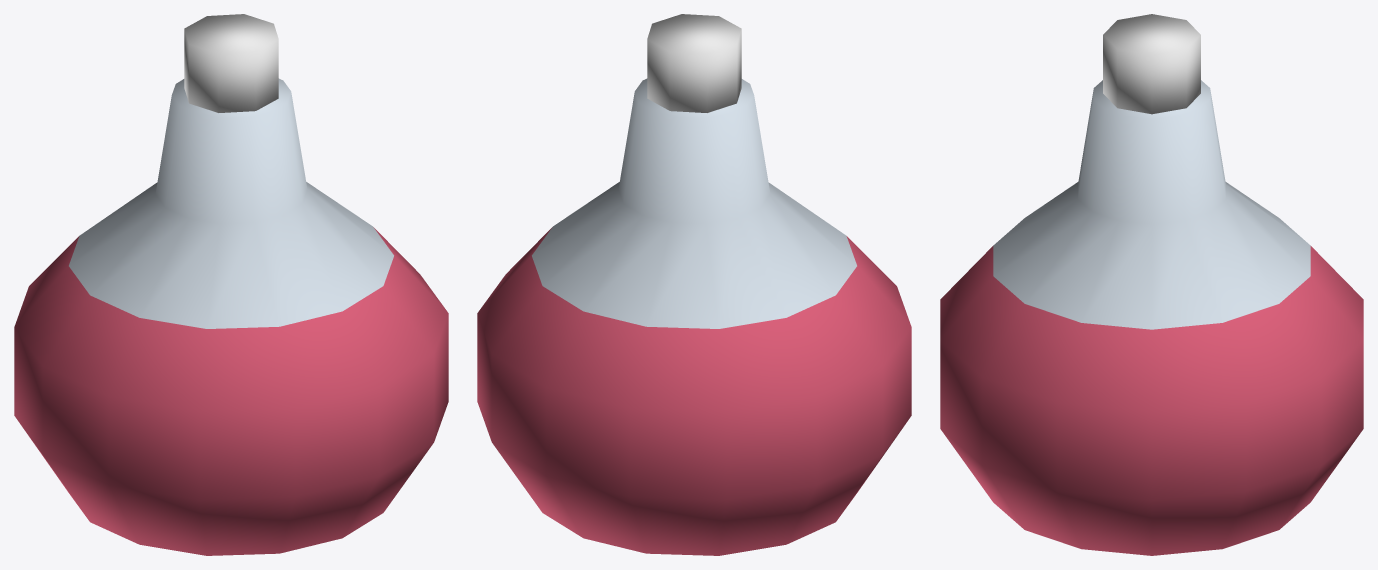
Rendered from lifeforce_potion.glb.
The picture shows the model from 3 angles, left to right: view 1: azimuth 30°, elevation 25°; view 2: azimuth 150°, elevation 25°; view 3: azimuth 270°, elevation 25°; orthographic projection.
Visible parts, largest first — view 1: lifeforce_potion_v0; view 2: lifeforce_potion_v0; view 3: lifeforce_potion_v0.
Part boxes in pixels (x1=…): lifeforce_potion_v0: x1=14, y1=14, x2=448, y2=555; lifeforce_potion_v0: x1=477, y1=14, x2=911, y2=555; lifeforce_potion_v0: x1=940, y1=14, x2=1363, y2=555.
Bounding box in the file's own units: 0.24 × 0.276 × 0.234.
